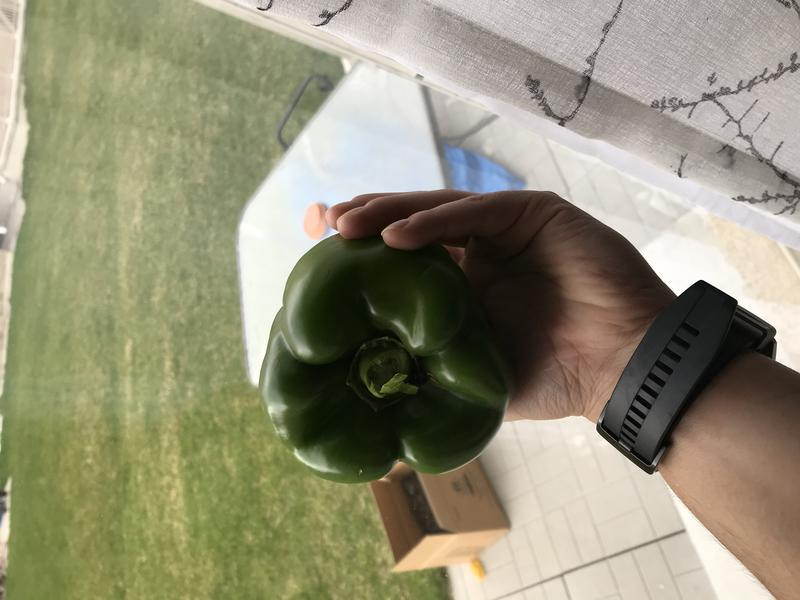green_pepper: (239, 221, 513, 492)
